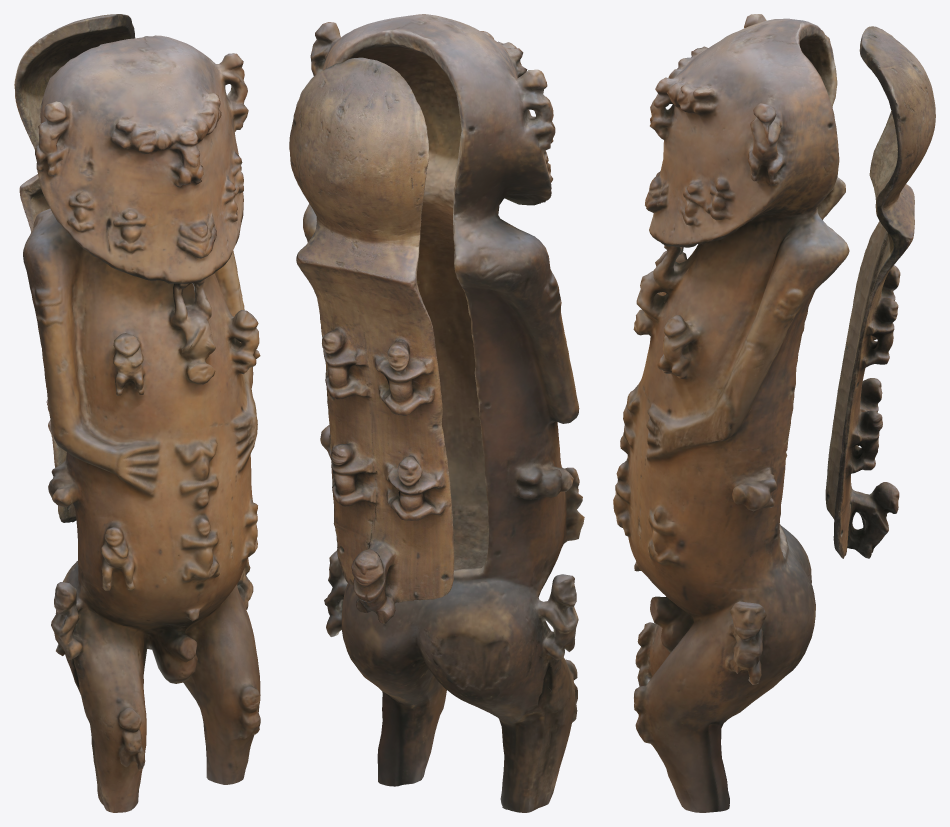
The picture shows the model from 3 angles, left to right: view 1: azimuth 30°, elevation 25°; view 2: azimuth 150°, elevation 25°; view 3: azimuth 270°, elevation 25°; orthographic projection. The views are drawn at different scales.
Visible parts, largest first — view 1: Aa-Body, Aa-back; view 2: Aa-Body, Aa-back; view 3: Aa-Body, Aa-back.
Part boxes in pixels (<box>): Aa-Body: <box>23,35,260,812</box>; Aa-back: <box>14,14,135,522</box>; Aa-Body: <box>303,14,584,812</box>; Aa-back: <box>289,57,454,623</box>; Aa-Body: <box>613,14,849,812</box>; Aa-back: <box>825,26,935,558</box>.
Bounding box in the file's own units: 4.95 × 15.87 × 6.21.
2 materials, 2 textured.
